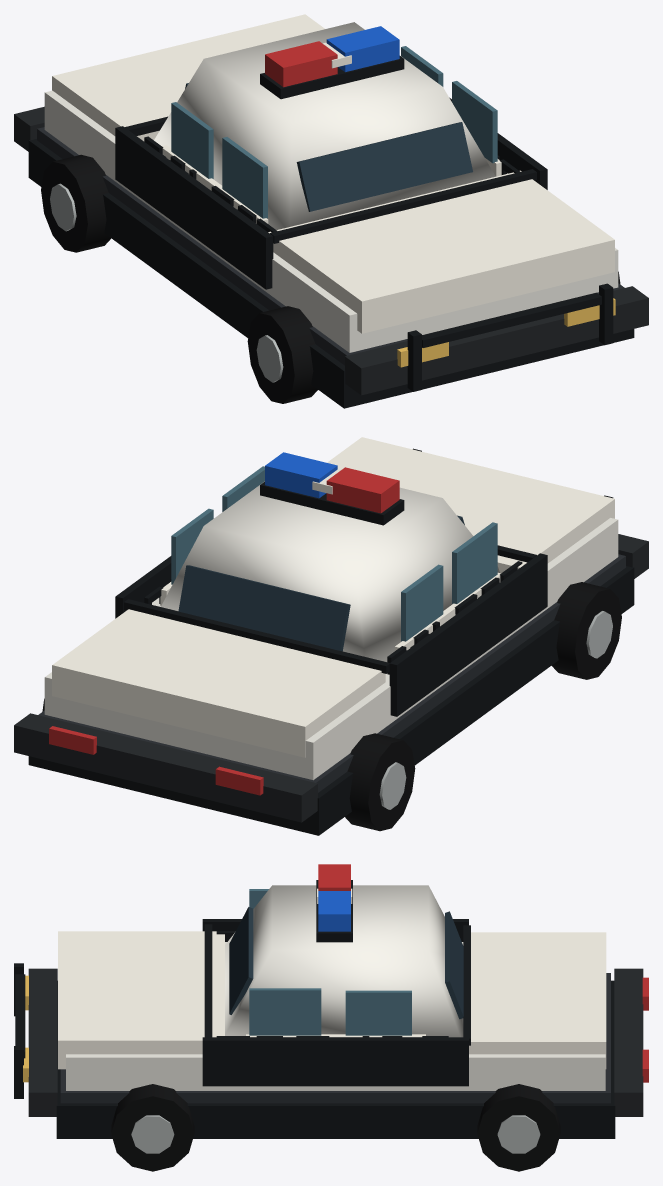
Rendered from original-low-poly-police-vehicle.glb.
3 views of the same model, one above another, from view 1: azimuth 30°, elevation 25°; view 2: azimuth 150°, elevation 25°; view 3: azimuth 270°, elevation 25° (orthographic). The views are drawn at different scales.
Visible parts, largest first — view 1: original_low_poly_police_vehicle; view 2: original_low_poly_police_vehicle; view 3: original_low_poly_police_vehicle.
Boxes of the visible parts, bbox=[...] form: original_low_poly_police_vehicle: bbox=[14, 14, 648, 408]; original_low_poly_police_vehicle: bbox=[14, 437, 648, 835]; original_low_poly_police_vehicle: bbox=[14, 864, 648, 1171].
Size of the model in its own units: 5.38 by 3.7 by 10.06.
